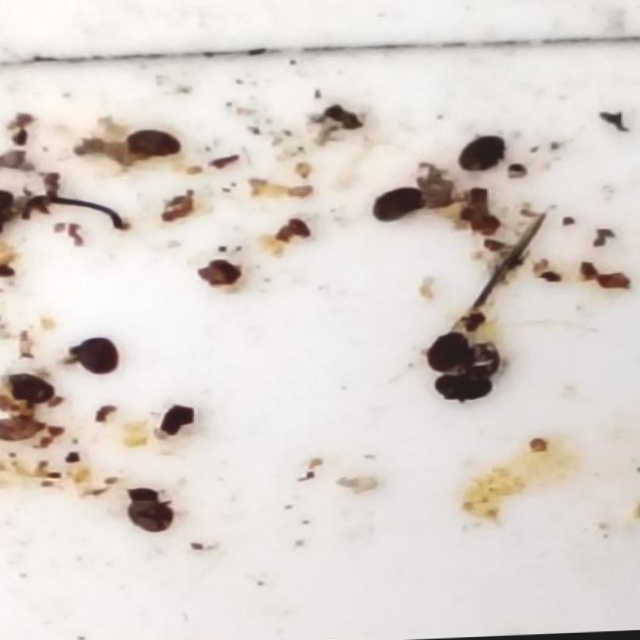varroa: (370, 187, 430, 227), (423, 334, 477, 377), (437, 373, 500, 407), (457, 136, 511, 175), (127, 494, 178, 535), (466, 340, 510, 383), (10, 373, 60, 410), (77, 336, 123, 376), (129, 131, 186, 161)
